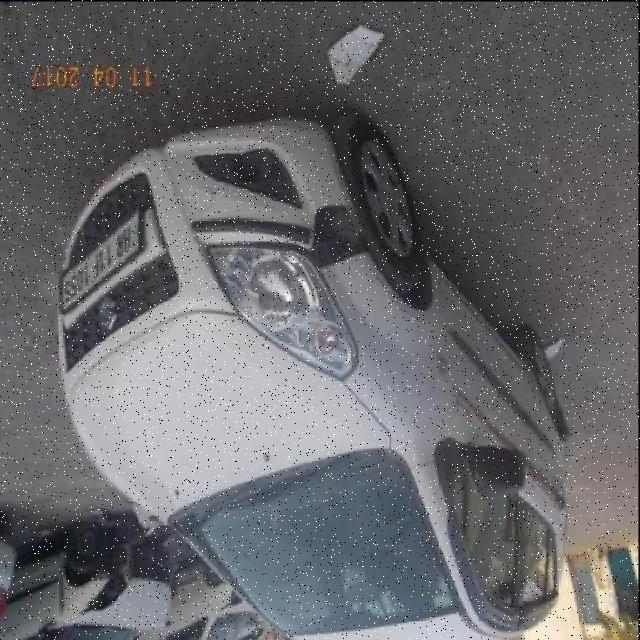damage: (304, 202, 373, 271), (246, 235, 318, 255)
